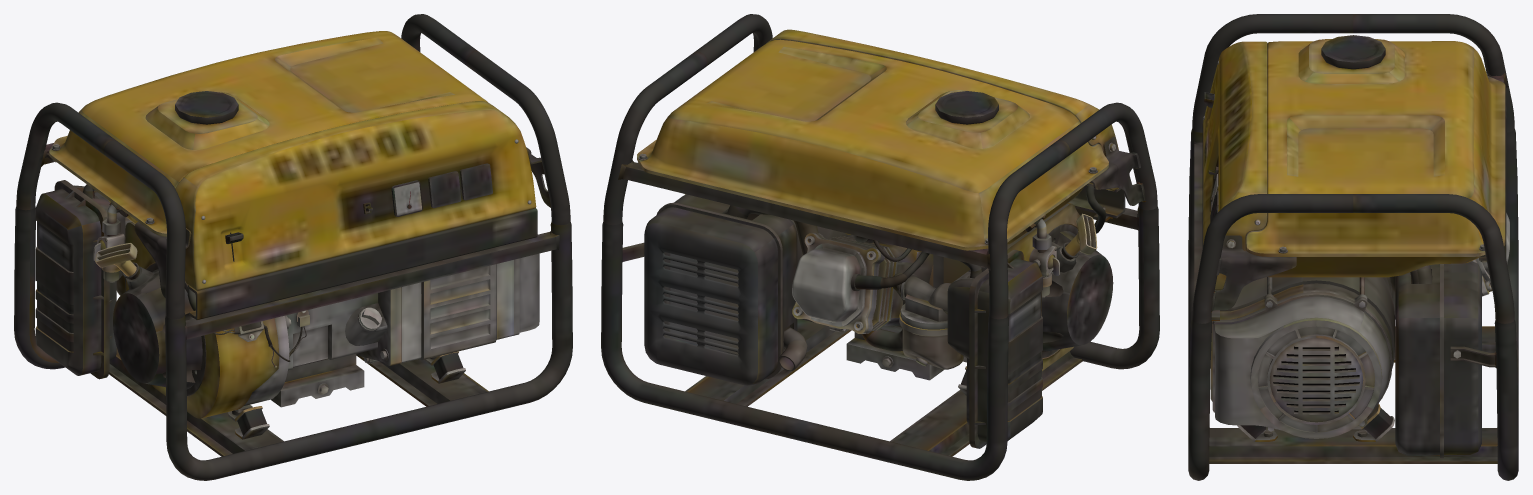
File: generator.glb
The picture shows the model from 3 angles, left to right: view 1: azimuth 30°, elevation 25°; view 2: azimuth 150°, elevation 25°; view 3: azimuth 270°, elevation 25°; orthographic projection.
Parts seen in each view (by area): view 1: portable_generator; view 2: portable_generator; view 3: portable_generator.
Part boxes in pixels (bbox=[...]): portable_generator: bbox=[14, 14, 572, 480]; portable_generator: bbox=[601, 14, 1159, 480]; portable_generator: bbox=[1188, 14, 1518, 480].
Bounding box in the file's own units: 0.8183 × 0.5769 × 0.564.
Materials: 2 (2 with a texture image).
